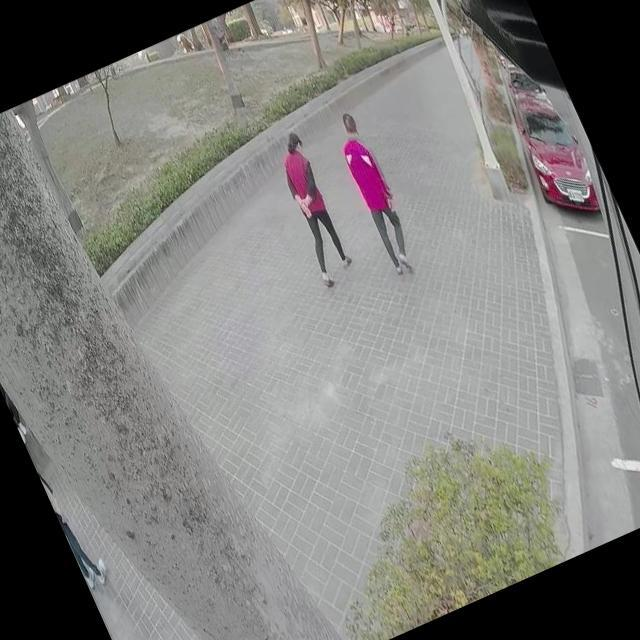person: (324, 110, 428, 285), (265, 130, 359, 284), (38, 464, 113, 593)
